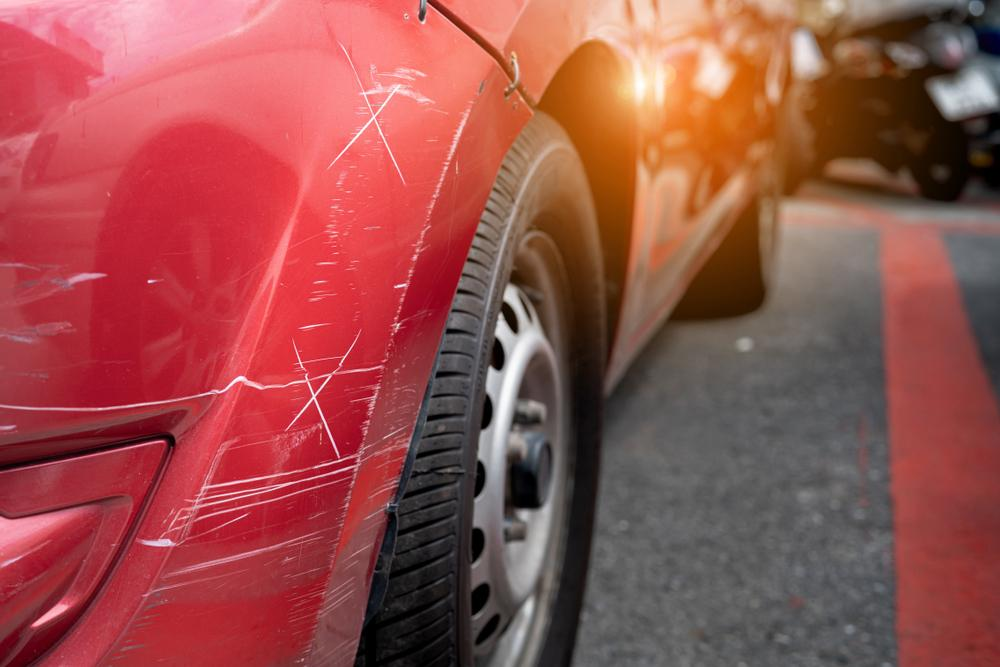scratch: (0, 30, 470, 667)
